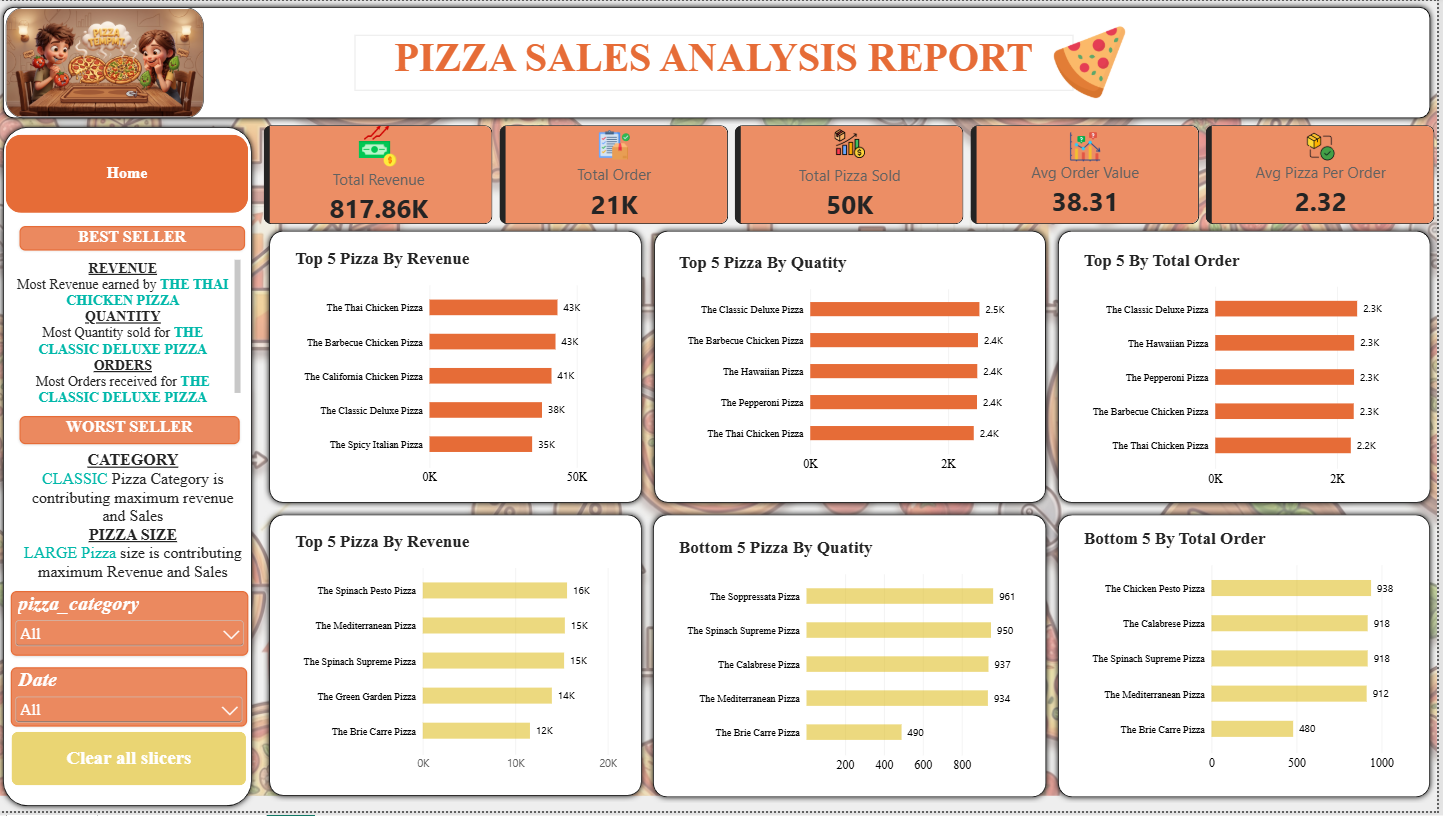

This screenshot's page, from the dashboard's own definition file:
{"tool":"powerbi","page":{"name":"Best/Worst Seller","canvas":[1920,1080],"ordinal":1},"visuals":[{"type":"cardVisual","fields":{"Data":["KPIs.Total Revenue","KPIs.Total Order","KPIs.Total Pizza Sold","KPIs.Avg Order Value","KPIs.Avg Pizza Per Order"]},"box":[354.8,164.3,1564.3,133.3],"z":0},{"type":"shape","box":[0,0,1919,164.3],"z":1000},{"type":"shape","box":[0,159.5,347.6,921.4],"z":2000},{"type":"shape","box":[355.4,676.8,512.5,391.1],"z":3000},{"type":"textbox","box":[32.4,599.8,299,187.3],"z":4000},{"type":"textbox","box":[30.6,300.8,300.8,32.4],"z":5000},{"type":"textbox","box":[18,345.8,306.2,194.5],"z":6000},{"type":"shape","box":[355.4,298.2,512.5,378.6],"z":7000},{"type":"shape","box":[1407.1,676.2,511.9,392.9],"z":8000},{"type":"shape","box":[866.7,676.2,540.5,392.9],"z":9000},{"type":"shape","box":[869,297.6,538.1,378.6],"z":10000},{"type":"shape","box":[1407.1,297.6,512.5,378.6],"z":11000},{"type":"barChart","title":"Top 5 Pizza By Revenue","fields":{"Category":["pizza_sales.pizza_name"],"Y":["KPIs.Total Revenue"]},"box":[382.1,316.1,460.7,346.4],"z":12000},{"type":"barChart","title":"Top 5 Pizza By Revenue","fields":{"Category":["pizza_sales.pizza_name"],"Y":["KPIs.Total Revenue"]},"box":[382.1,692.9,460.7,353.6],"z":13000},{"type":"barChart","title":"Bottom 5 By Total Order","fields":{"Category":["pizza_sales.pizza_name"],"Y":["KPIs.Total Order"]},"box":[1433.3,690.5,460.7,353.6],"z":14000},{"type":"barChart","title":"Top 5 Pizza By Quatity","fields":{"Category":["pizza_sales.pizza_name"],"Y":["KPIs.Total Pizza Sold"]},"box":[892.9,321.4,492.9,323.8],"z":15000},{"type":"barChart","title":"Top 5 By Total Order","fields":{"Category":["pizza_sales.pizza_name"],"Y":["KPIs.Total Order"]},"box":[1433.3,319,460.7,346.4],"z":16000},{"type":"barChart","title":"Bottom 5 Pizza By Quatity","fields":{"Category":["pizza_sales.pizza_name"],"Y":["KPIs.Total Pizza Sold"]},"box":[892.9,702.4,492.9,345.2],"z":17000},{"type":"textbox","box":[477.3,45,958.2,75.6],"z":18000},{"type":"image","box":[1406.7,32.4,100,100],"z":19000},{"type":"slicer","fields":{"Values":["pizza_sales.pizza_category"]},"box":[18,787.1,317,86.5],"z":20000},{"type":"slicer","fields":{"Values":["Calander Table.Date"]},"box":[18,888,315.2,79.2],"z":21000},{"type":"actionButton","box":[18,972.6,315.2,73.8],"z":22000},{"type":"textbox","box":[30.6,552.9,293.6,37.8],"z":23000},{"type":"image","box":[11.3,8.1,264.3,147.6],"z":24000},{"type":"pageNavigator","box":[11.9,178.6,323.8,104.8],"z":25000}]}

Visuals, with their boxes in screenshot pixels (x1, y1, x2, y2), scaled from the page's 1920x1080 canvas onto the 1443x816 screenshot:
cardVisual - KPIs.Total Revenue x KPIs.Total Order: <box>267,124,1442,225</box>
shape: <box>0,0,1442,124</box>
shape: <box>0,121,261,815</box>
shape: <box>267,511,652,807</box>
textbox: <box>24,453,249,595</box>
textbox: <box>23,227,249,252</box>
textbox: <box>14,261,244,408</box>
shape: <box>267,225,652,511</box>
shape: <box>1058,511,1442,808</box>
shape: <box>651,511,1058,808</box>
shape: <box>653,225,1058,511</box>
shape: <box>1058,225,1442,511</box>
"Top 5 Pizza By Revenue" barChart: <box>287,239,633,501</box>
"Top 5 Pizza By Revenue" barChart: <box>287,524,633,791</box>
"Bottom 5 By Total Order" barChart: <box>1077,522,1423,789</box>
"Top 5 Pizza By Quatity" barChart: <box>671,243,1042,487</box>
"Top 5 By Total Order" barChart: <box>1077,241,1423,503</box>
"Bottom 5 Pizza By Quatity" barChart: <box>671,531,1042,792</box>
textbox: <box>359,34,1079,91</box>
image: <box>1057,24,1132,100</box>
slicer - pizza_sales.pizza_category: <box>14,595,252,660</box>
slicer - Calander Table.Date: <box>14,671,250,731</box>
actionButton: <box>14,735,250,791</box>
textbox: <box>23,418,244,446</box>
image: <box>8,6,207,118</box>
pageNavigator: <box>9,135,252,214</box>
